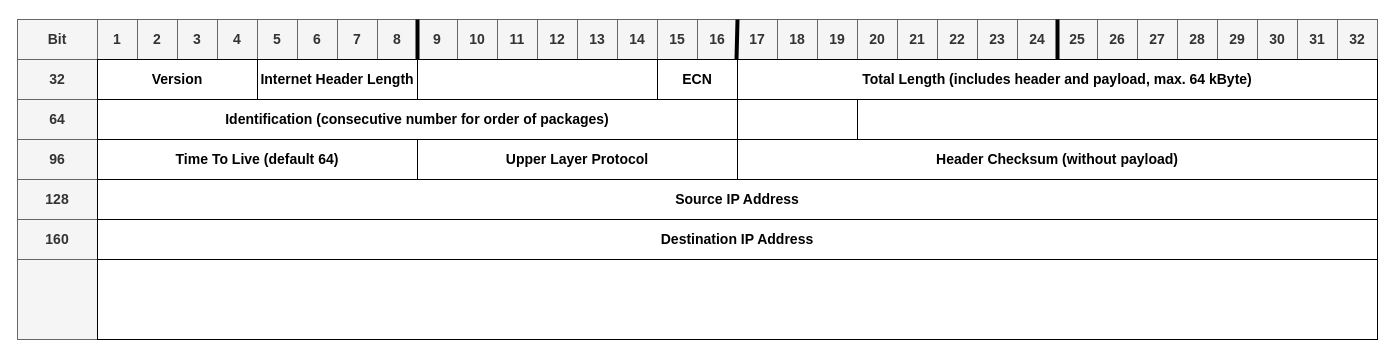
Image size: 1395x357. Some labels were removed from this diagram. The centre of each missing label's shape, as x and y in pixels:
"192 ... max. 480" goes at point 57,299.
"Differentiated Services Code Point" goes at point 537,79.
"Flags" goes at point 797,119.
"Fragment Offset" goes at point 1117,119.
"Payload Data" goes at point 737,299.
